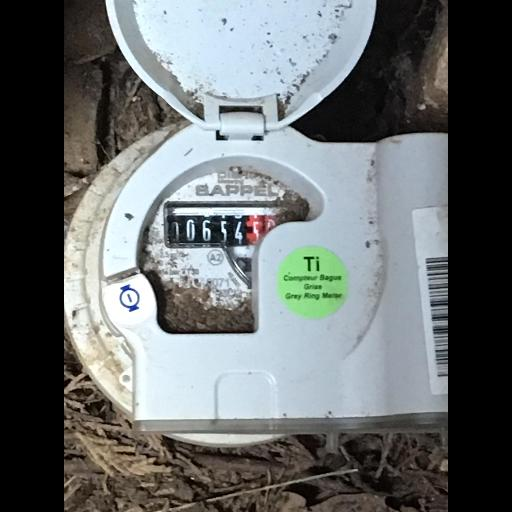0: (166, 216, 183, 245), (183, 215, 200, 244)
4: (231, 215, 249, 246)
5: (249, 214, 266, 246), (215, 215, 231, 245)
6: (199, 215, 216, 244)
border_water_meter_number: (163, 209, 285, 248)
